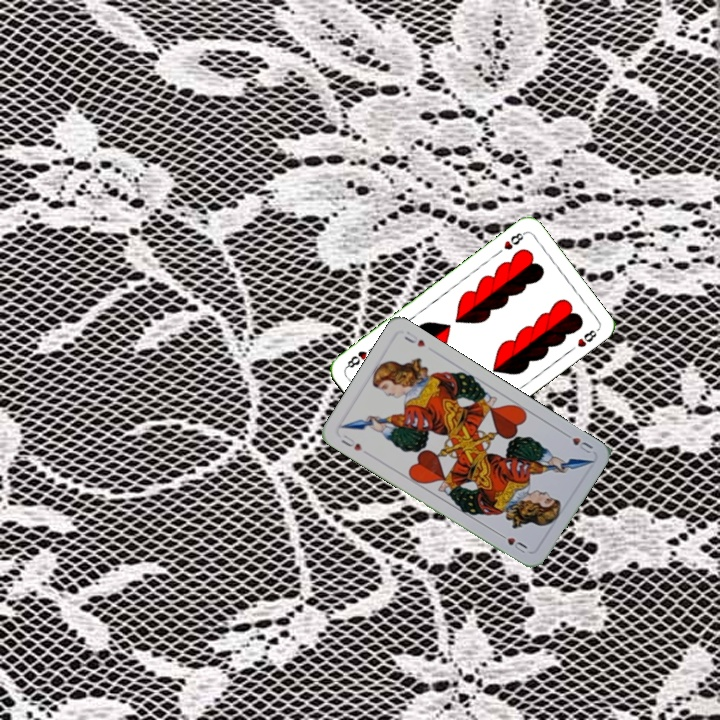H8: (499, 228, 528, 252)
HU: (559, 428, 596, 456), (337, 431, 364, 453)
